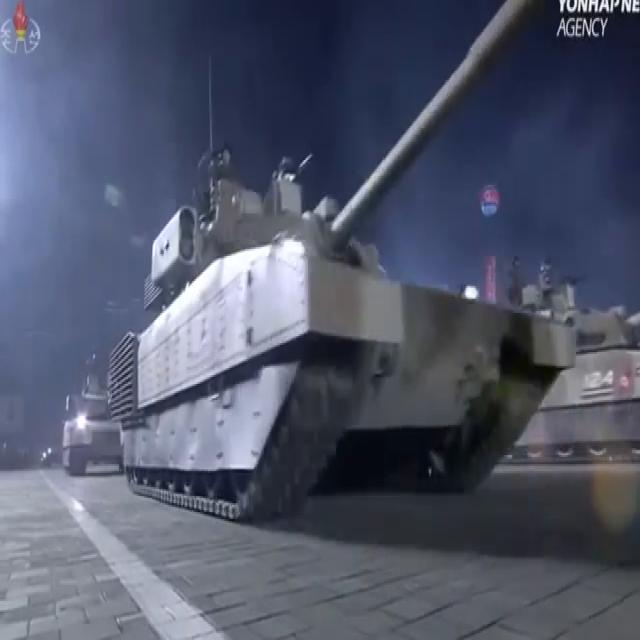north tank: (98, 1, 584, 539), (448, 251, 640, 565), (61, 326, 137, 519)
